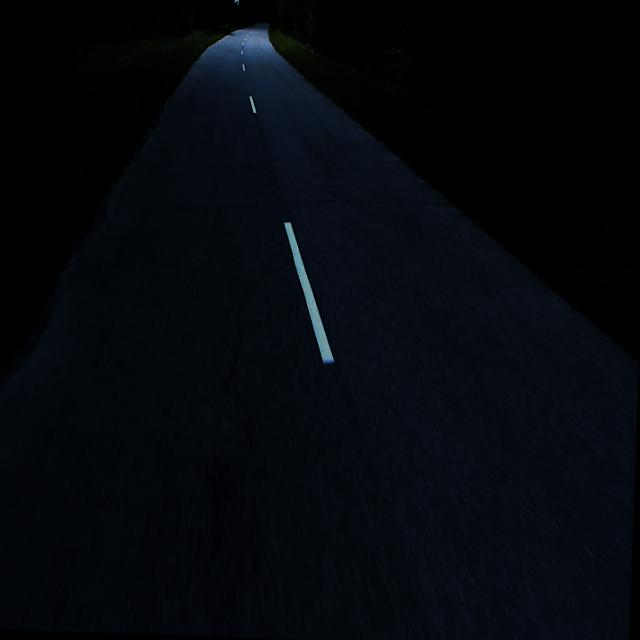road: (0, 22, 638, 640)
